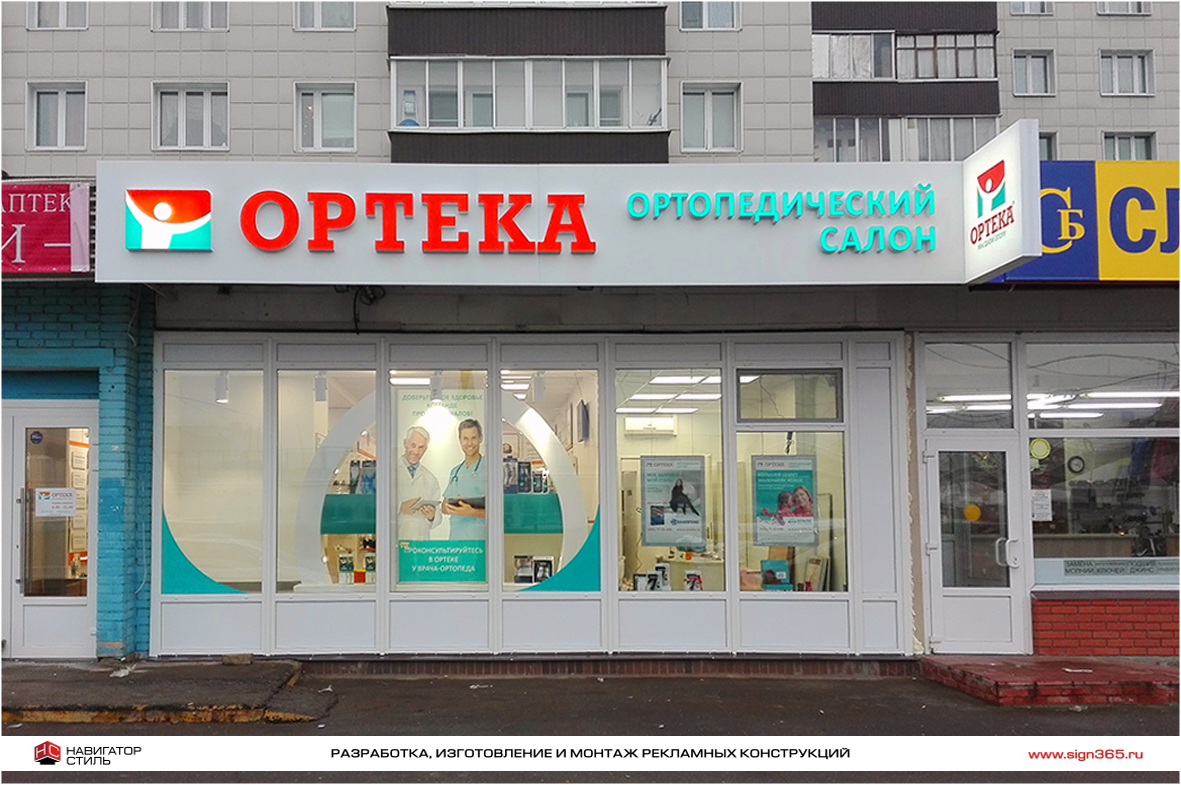cantilever: (959, 114, 1043, 287)
door: (5, 413, 103, 663), (925, 434, 1029, 654)
signboard: (94, 155, 963, 281)
win_ad: (394, 379, 487, 591)
window: (159, 366, 851, 595), (917, 343, 1181, 590), (146, 80, 226, 148), (682, 79, 742, 151), (25, 79, 85, 146), (295, 85, 355, 150), (1103, 48, 1156, 98), (1013, 51, 1057, 96)
